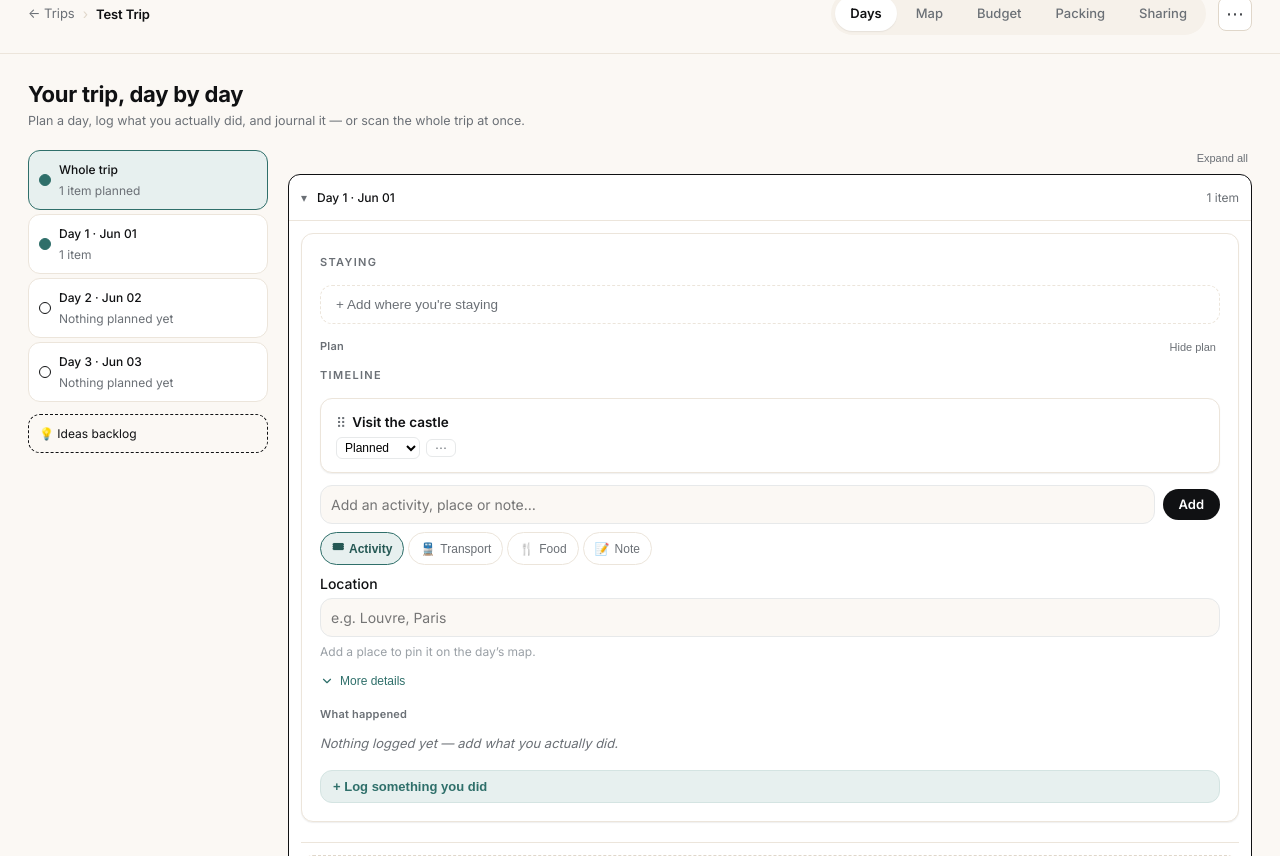
TripPlanPage › reveals the journal below the plan when a day is selected
What coordinates should you click on to do the following:
click the button "Day 1 · Jun 01 1 item"
I would click on:
 (148, 244)
Its box is [28,214,268,274].
(page scrolled)
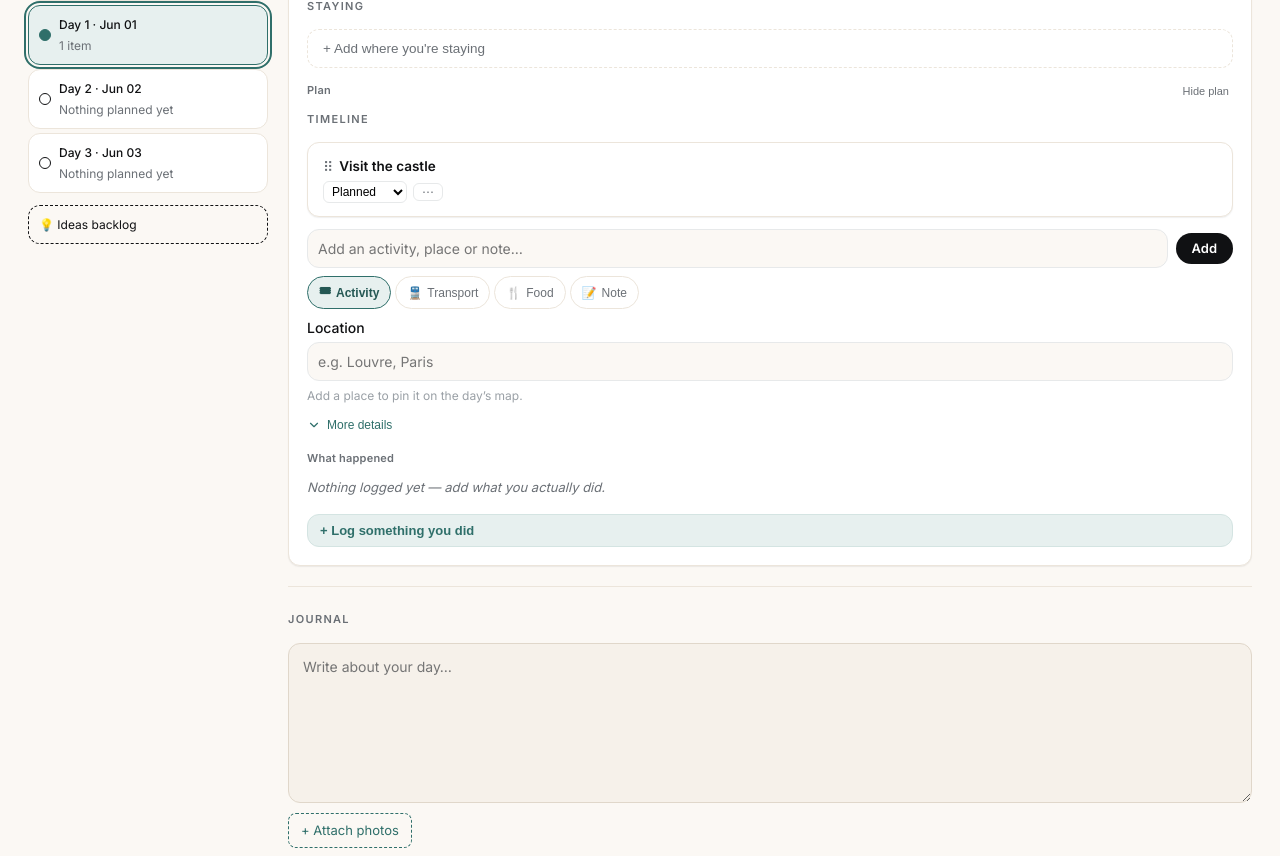
Now the element "Journal" is shown, box [288,586,1252,848]
